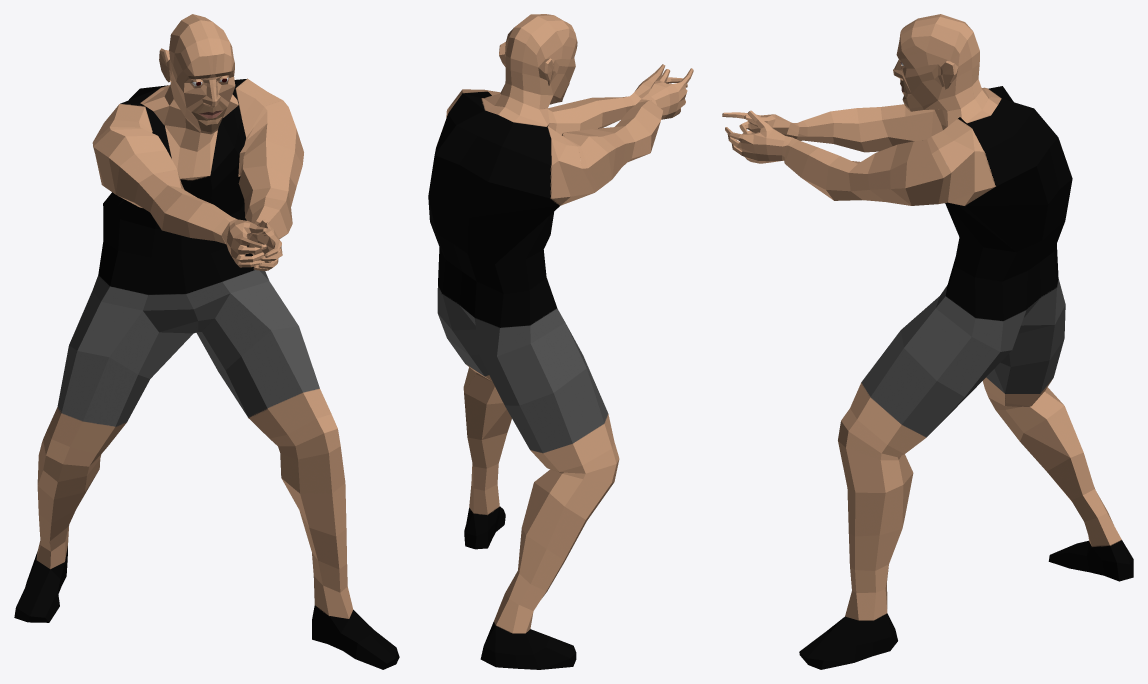
Rendered from PlayerShoot(33).obj.
The picture shows the model from 3 angles, left to right: view 1: azimuth 30°, elevation 25°; view 2: azimuth 150°, elevation 25°; view 3: azimuth 270°, elevation 25°; orthographic projection. The views are drawn at different scales.
Parts seen in each view (by area): view 1: Plane002; view 2: Plane002; view 3: Plane002.
Part boxes in pixels (box(x1,y1,x2,y2)): Plane002: box(14, 14, 399, 669); Plane002: box(428, 14, 693, 669); Plane002: box(722, 14, 1133, 669).
Size of the model in its own units: 716 by 1665 by 1052.
